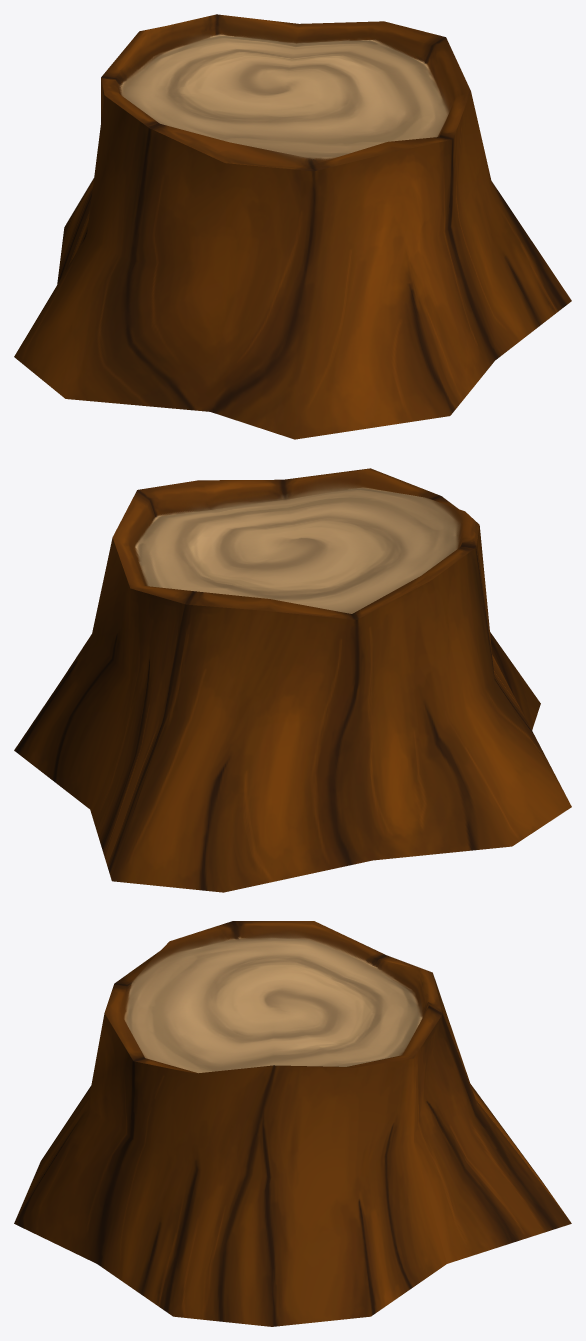
Rendered from Stump.fbx.
3 views of the same model, one above another, from view 1: azimuth 30°, elevation 25°; view 2: azimuth 150°, elevation 25°; view 3: azimuth 270°, elevation 25° (orthographic). The views are drawn at different scales.
Visible parts, largest first — view 1: TreeStump; view 2: TreeStump; view 3: TreeStump.
Part boxes in pixels (<box>): TreeStump: <box>14,14,571,439</box>; TreeStump: <box>14,468,571,892</box>; TreeStump: <box>14,921,571,1326</box>.
Size of the model in its own units: 3.11 by 1.44 by 3.28.
